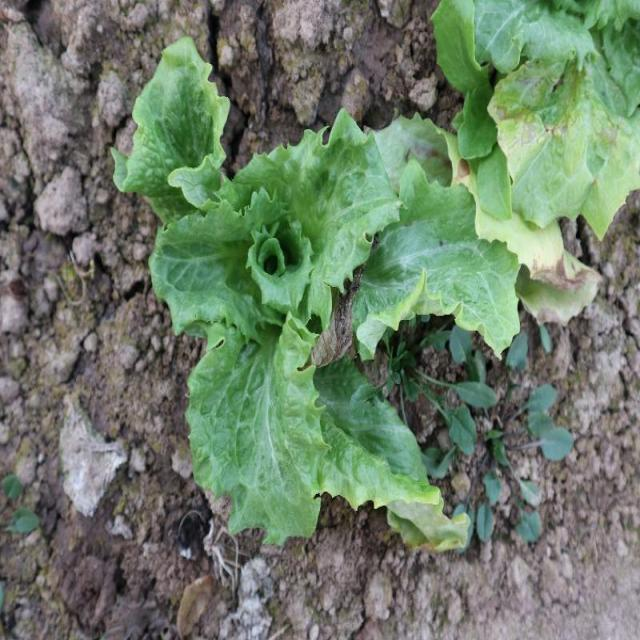crop: (110, 0, 640, 554)
